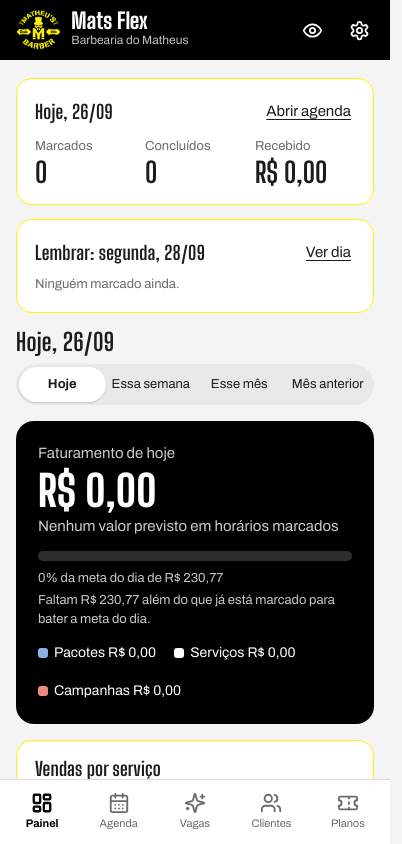
Test: portão de login e carga inicial › Ajustes mostra o estado da sincronização
The image size is (402, 844).
Click the button named "Ajustes" at (360, 30), box [341,12,378,48]
(page scrolled)
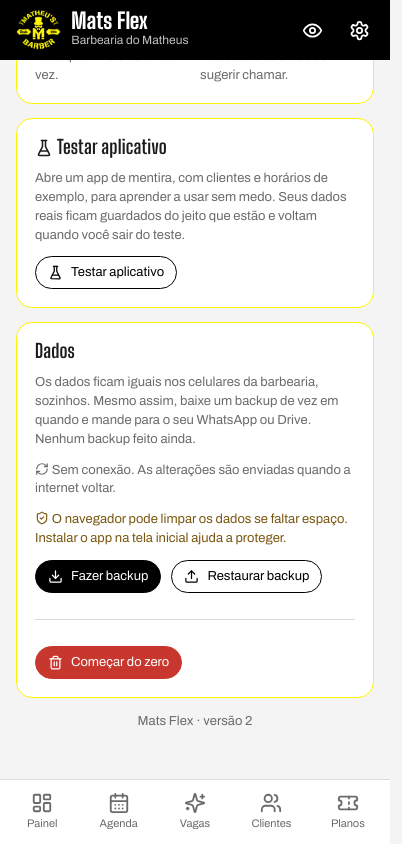
Result: the text "Sem conexão. As alterações são enviadas quando a internet voltar." is shown at [35,460,355,498]
